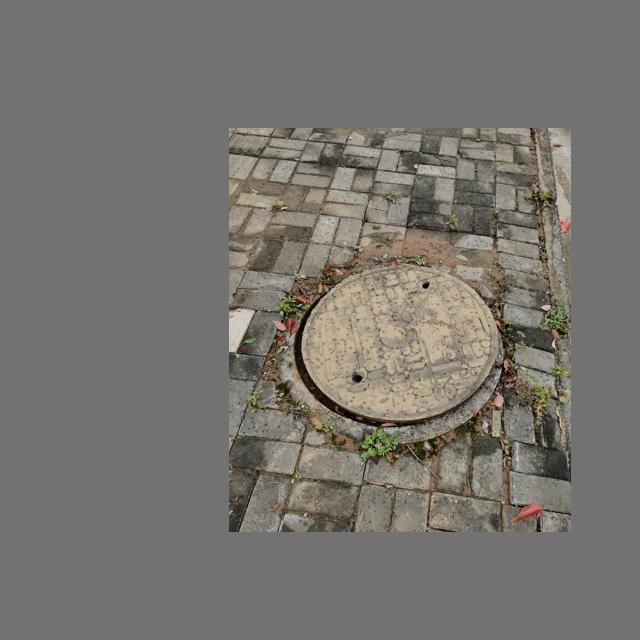uncovered: (278, 262, 505, 445)
